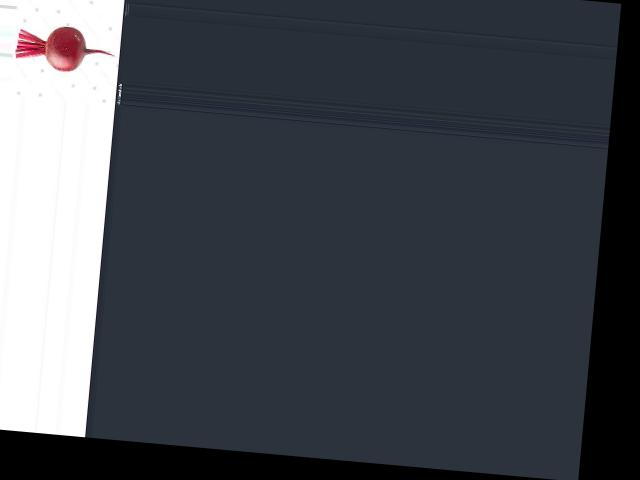beet: (14, 22, 119, 75)
